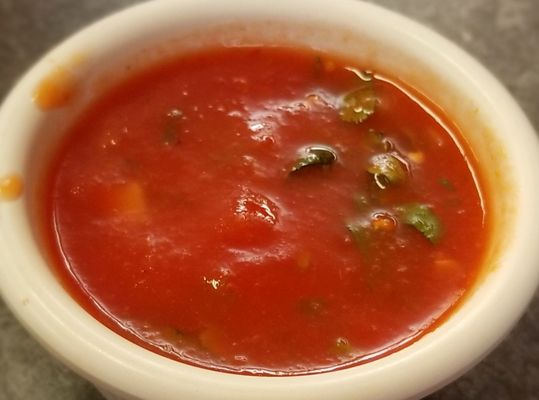sushi: (1, 2, 500, 392)
